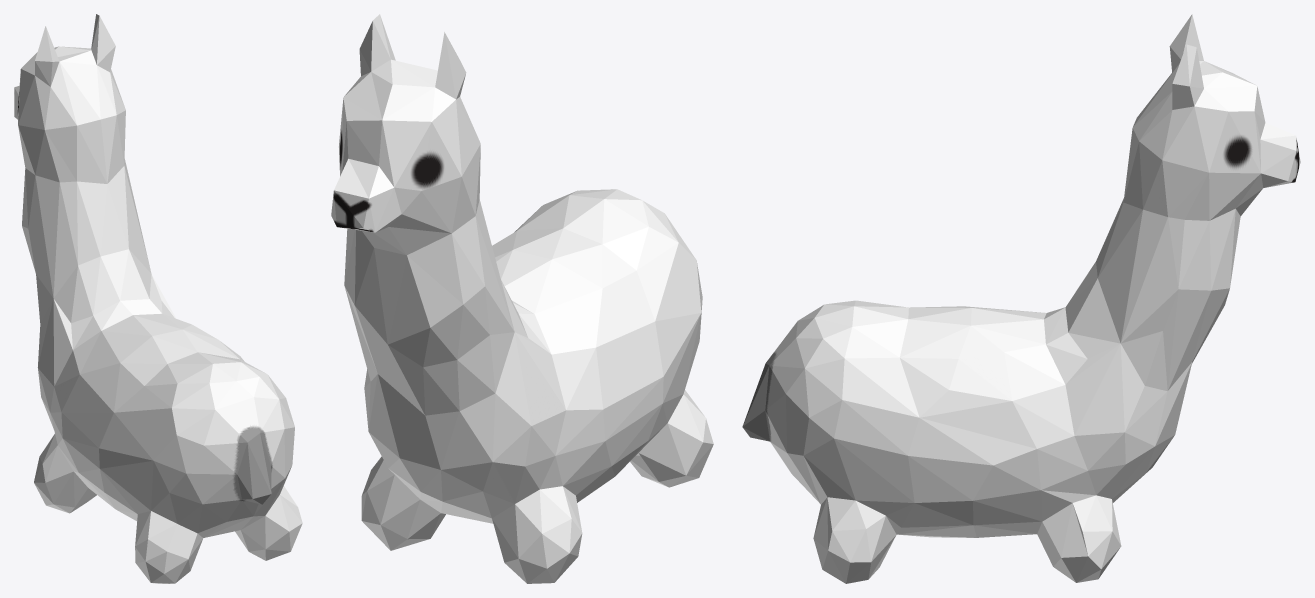
File: animal_alpaca_blob.obj
3 renders of one model, left to right at view 1: azimuth 30°, elevation 25°; view 2: azimuth 150°, elevation 25°; view 3: azimuth 270°, elevation 25°, orthographic. The views are drawn at different scales.
Visible parts, largest first — view 1: animal_alpaca_blob; view 2: animal_alpaca_blob; view 3: animal_alpaca_blob.
Boxes of the visible parts, x1,y1,x2,y2 form: animal_alpaca_blob: (14, 14, 302, 583); animal_alpaca_blob: (331, 14, 713, 583); animal_alpaca_blob: (742, 14, 1300, 583).
Size of the model in its own units: 0.5031 by 1.29 by 1.25.
